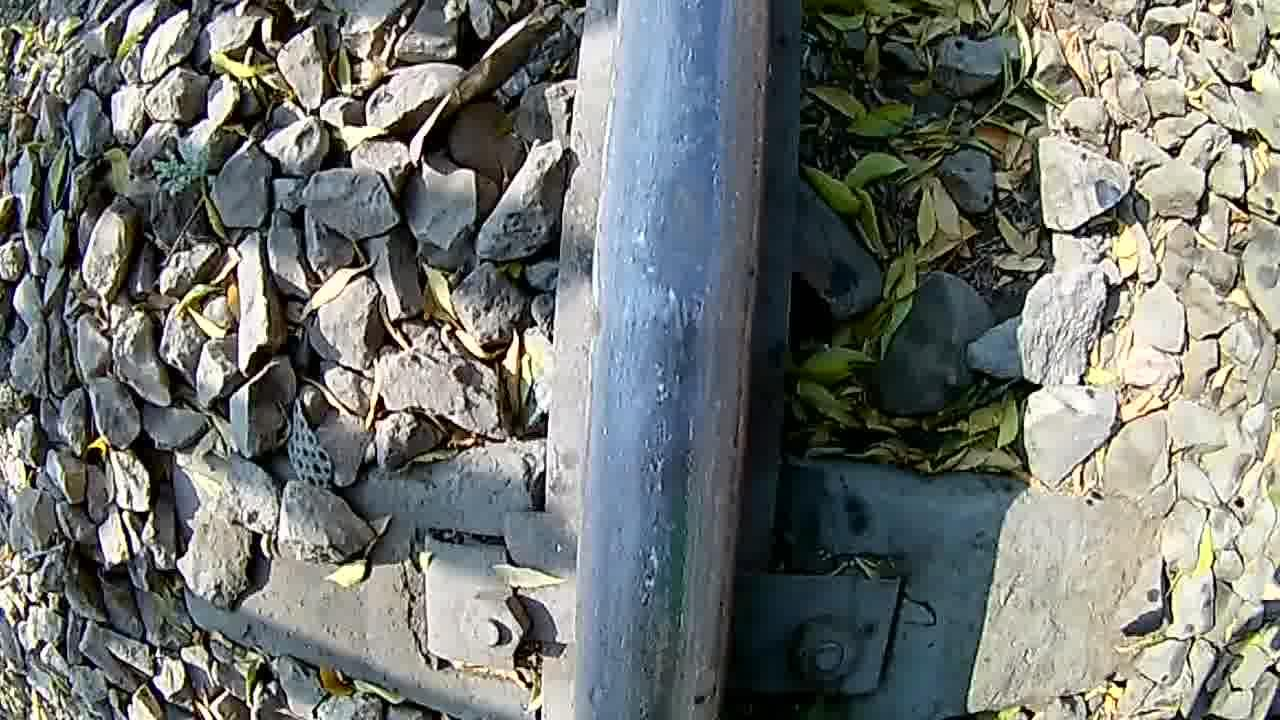bolt_missing: (592, 13, 763, 720)
